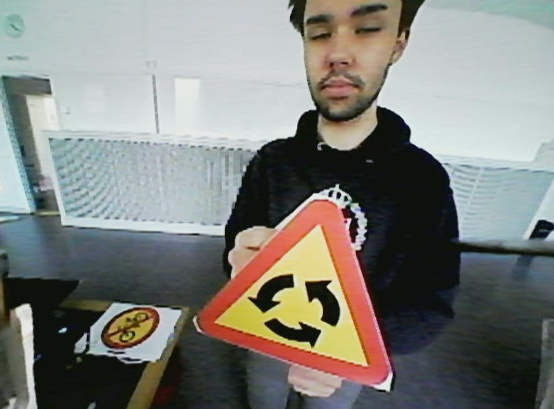roundabout_warning: (193, 185, 403, 393)
